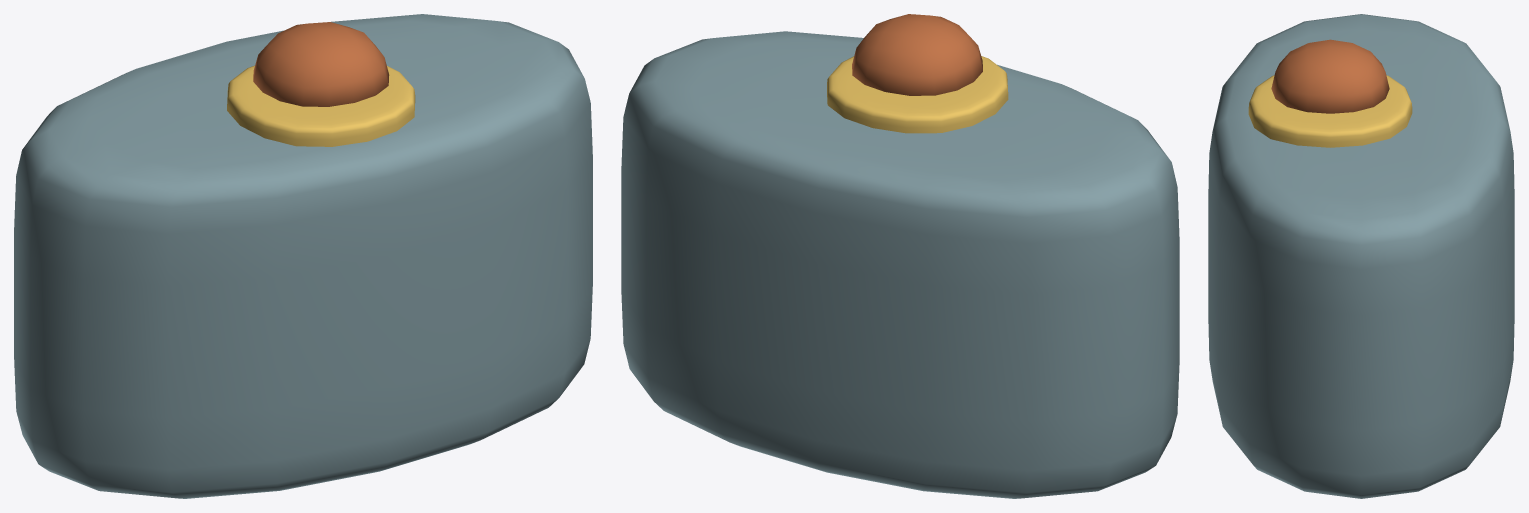
The model's file is Button.fbx.
3 views of the same model, side by side, from view 1: azimuth 30°, elevation 25°; view 2: azimuth 150°, elevation 25°; view 3: azimuth 270°, elevation 25° (orthographic). The views are drawn at different scales.
Visible parts, largest first — view 1: pCube5, pCube2; view 2: pCube5, pCube2; view 3: pCube5, pCube2.
Boxes of the visible parts, <box> form: pCube5: <box>14,14,592,498</box>; pCube2: <box>253,22,389,106</box>; pCube5: <box>621,31,1179,498</box>; pCube2: <box>852,14,982,95</box>; pCube5: <box>1208,14,1514,498</box>; pCube2: <box>1271,39,1389,113</box>.
Bounding box in the file's own units: 1.66 × 1.17 × 0.923.
